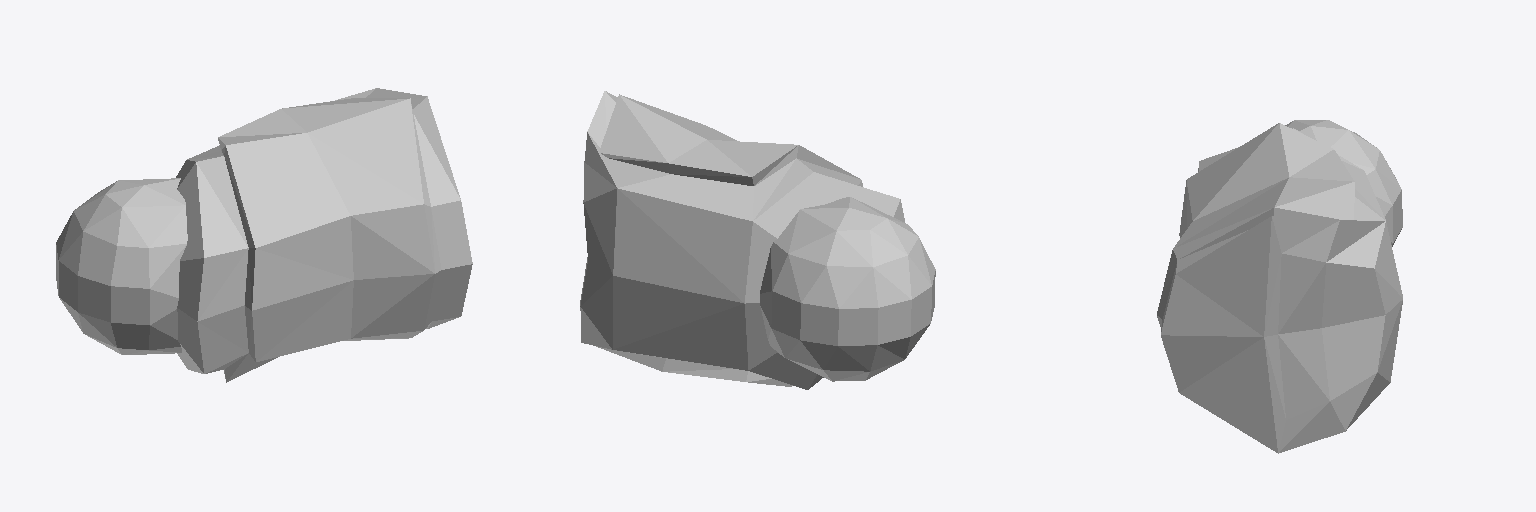
File: Phalax.obj
The picture shows the model from 3 angles: view 1: azimuth 30°, elevation 25°; view 2: azimuth 150°, elevation 25°; view 3: azimuth 270°, elevation 25°; orthographic projection.
Parts seen in each view (by area): view 1: default; view 2: default; view 3: default.
Boxes of the visible parts, x1,y1,x2,y2 form: default: [56, 88, 472, 382]; default: [580, 91, 935, 389]; default: [1157, 120, 1402, 453].
Size of the model in its own units: 0.0234 by 0.016 by 0.0146.